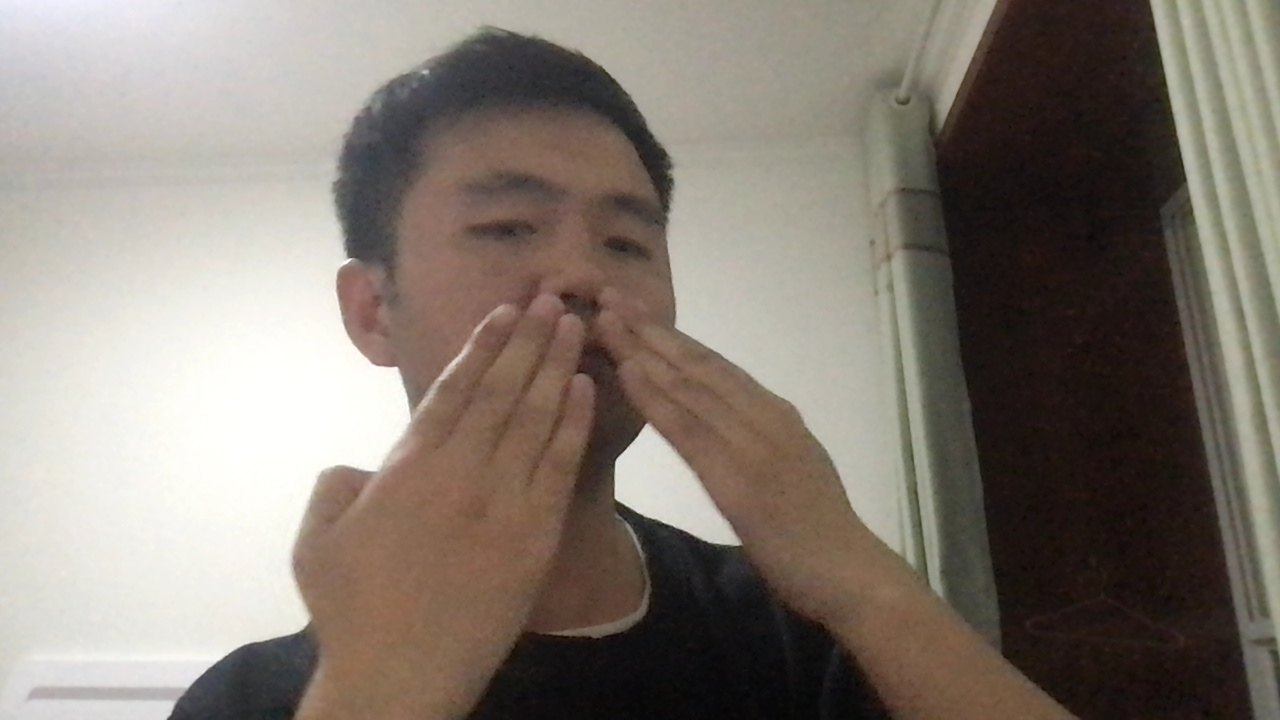thanks: (271, 287, 922, 675)
